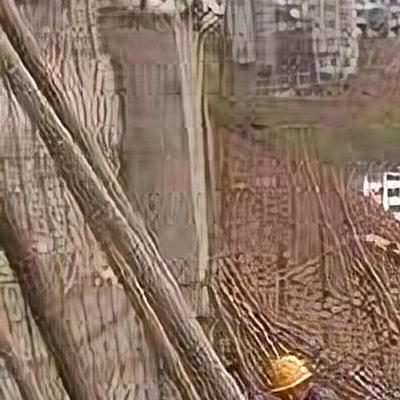hardHat: (266, 346, 322, 400)
